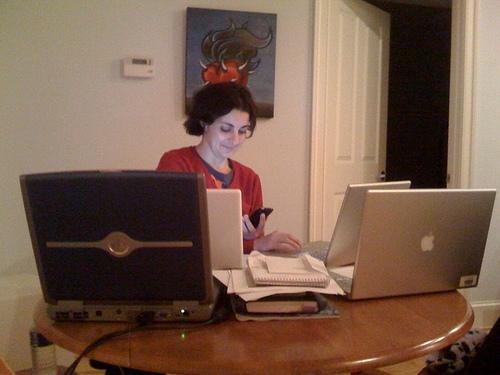apple: (420, 230, 436, 252)
